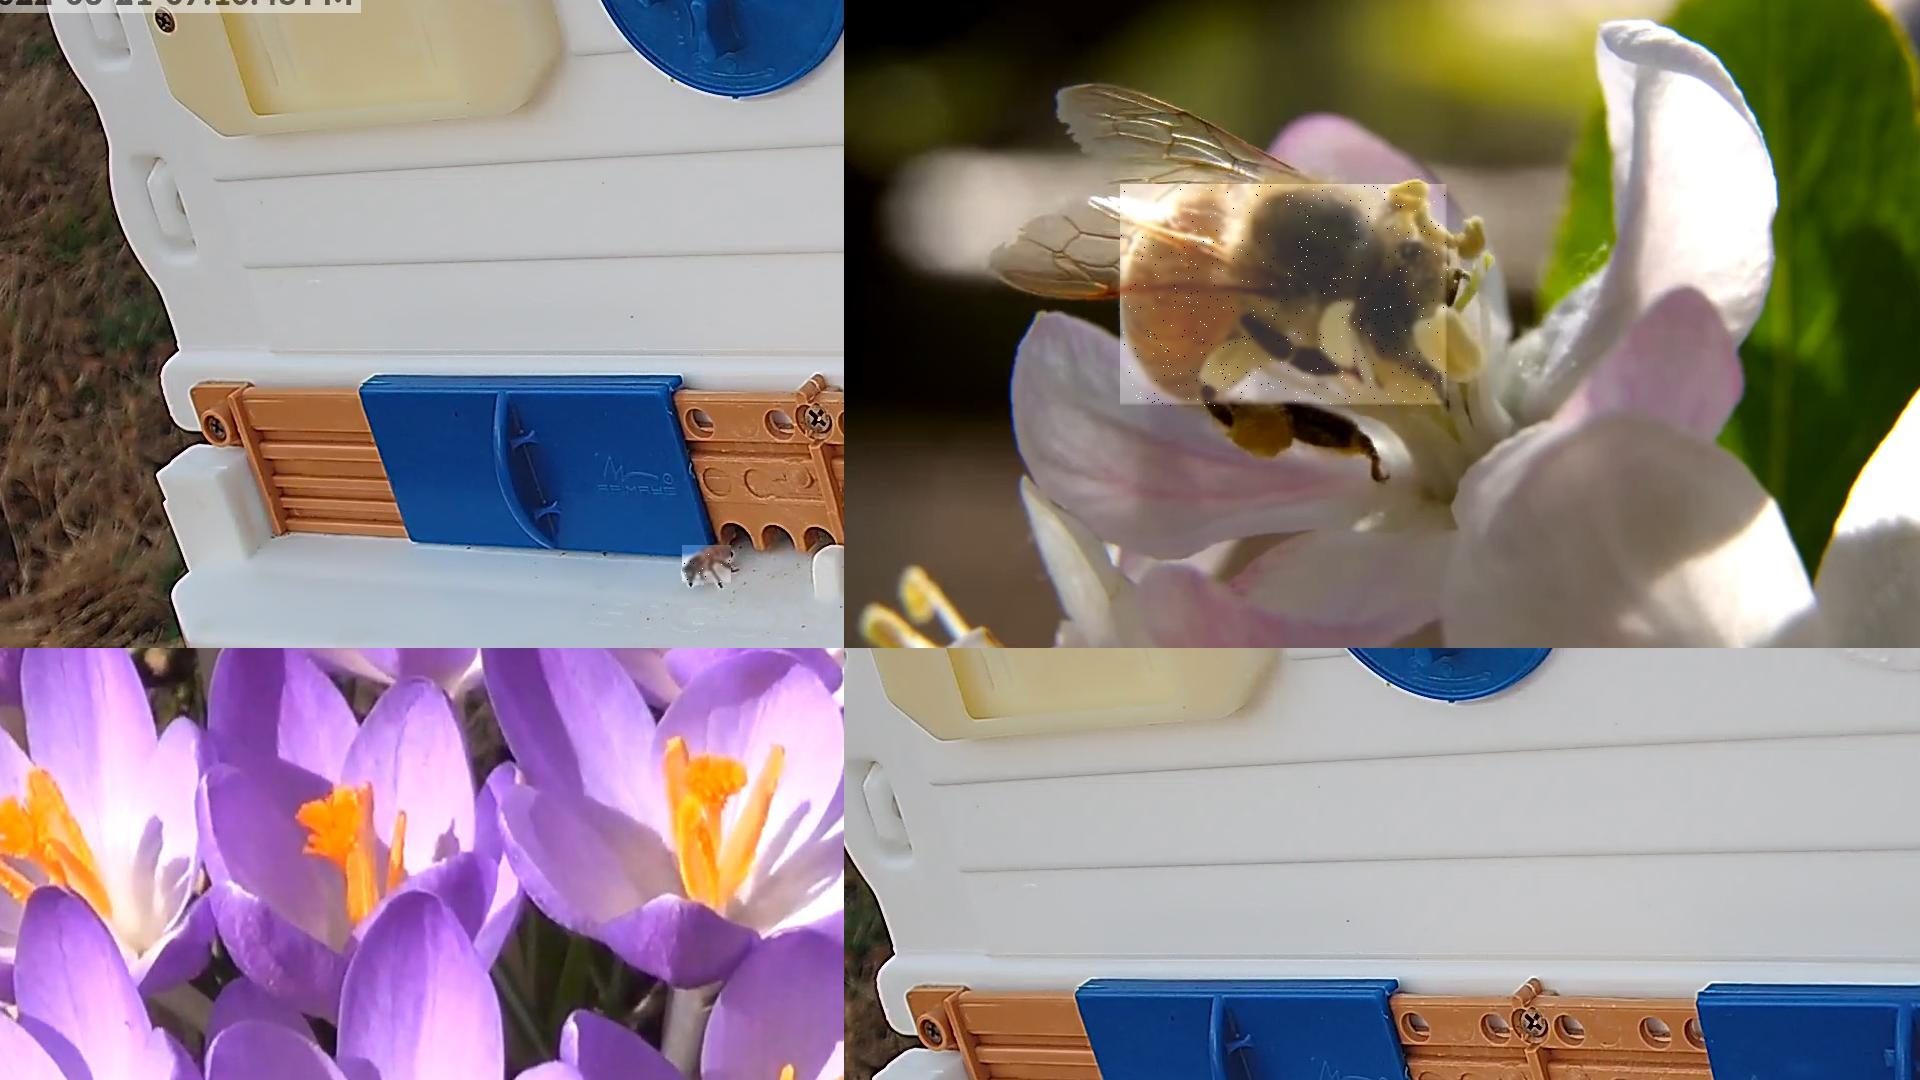bee: (682, 546, 732, 586)
pollenbee: (1121, 185, 1450, 408)
